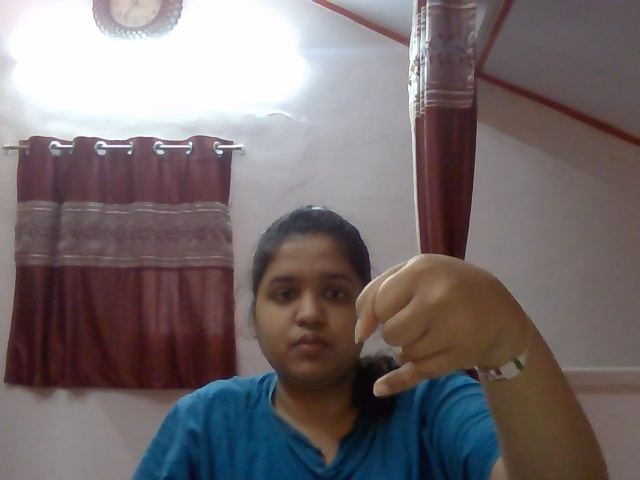j: (334, 248, 494, 408)
